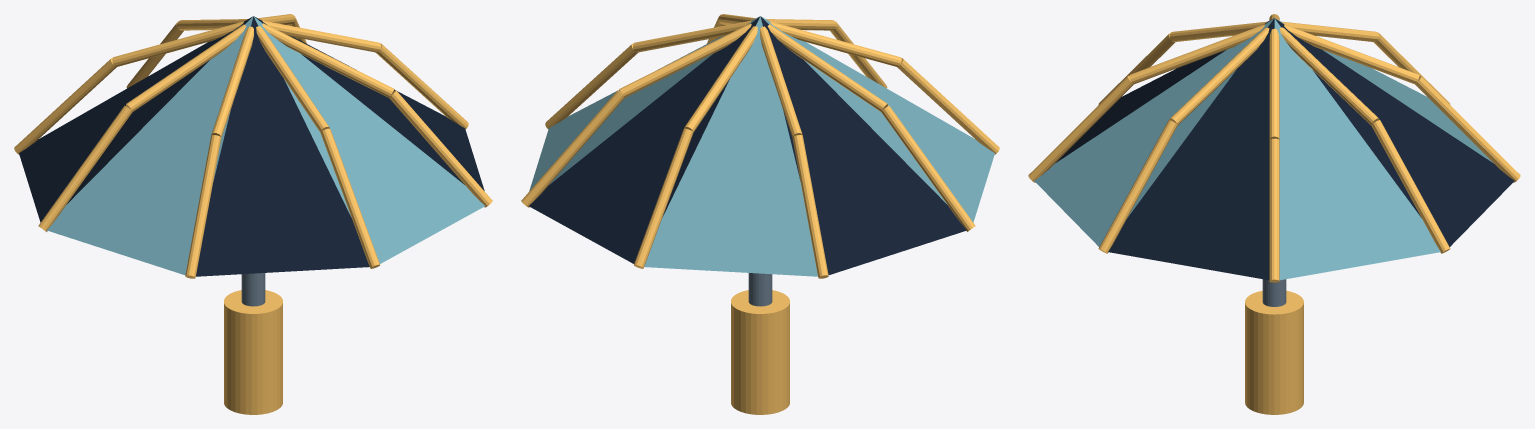
The model's file is foldumbrella.glb.
3 renders of one model, left to right at view 1: azimuth 30°, elevation 25°; view 2: azimuth 150°, elevation 25°; view 3: azimuth 270°, elevation 25°, orthographic.
Parts seen in each view (by area): view 1: panel2, panel3, panel1, panel4, handle, panel0, rib21, rib41, rib31, rib11, rib10, rib40 (+9 smaller); view 2: panel5, panel4, panel6, panel3, handle, panel7, rib61, rib41, rib51, rib71, rib70, rib40 (+9 smaller); view 3: panel0, panel7, panel1, panel6, handle, panel2, panel5, rib11, rib71, rib01, rib20, rib60 (+10 smaller).
Part boxes in pixels (left/top/right/bottom): panel2: left=196, top=16, right=369, bottom=276; panel3: left=47, top=16, right=253, bottom=274; panel1: left=254, top=17, right=484, bottom=263; panel4: left=19, top=16, right=252, bottom=222; handle: left=224, top=290, right=282, bottom=414; panel0: left=254, top=16, right=484, bottom=190; rib21: left=320, top=128, right=379, bottom=268; rib41: left=38, top=105, right=132, bottom=231; rib31: left=185, top=135, right=221, bottom=278; rib11: left=389, top=90, right=492, bottom=207; rib10: left=262, top=23, right=394, bottom=97; rib40: left=126, top=24, right=246, bottom=111; panel5: left=644, top=16, right=817, bottom=276; panel4: left=760, top=16, right=966, bottom=274; panel6: left=529, top=17, right=759, bottom=263; panel3: left=761, top=16, right=994, bottom=222; handle: left=731, top=290, right=789, bottom=414; panel7: left=529, top=16, right=759, bottom=190; rib61: left=634, top=128, right=693, bottom=268; rib41: left=881, top=105, right=975, bottom=231; rib51: left=792, top=135, right=828, bottom=278; rib71: left=521, top=90, right=624, bottom=207; rib70: left=619, top=23, right=751, bottom=97; rib40: left=767, top=24, right=887, bottom=111; panel0: left=1108, top=18, right=1274, bottom=280; panel7: left=1274, top=19, right=1440, bottom=280; panel1: left=1034, top=18, right=1273, bottom=246; panel6: left=1275, top=18, right=1514, bottom=246; handle: left=1245, top=290, right=1303, bottom=414; panel2: left=1055, top=18, right=1273, bottom=163; panel5: left=1275, top=18, right=1493, bottom=163; rib11: left=1098, top=120, right=1177, bottom=253; rib71: left=1371, top=120, right=1450, bottom=253; rib01: left=1269, top=138, right=1279, bottom=282; rib20: left=1129, top=24, right=1264, bottom=84; rib60: left=1284, top=24, right=1419, bottom=84.
Size of the model in its own units: 1.67 by 1.44 by 1.67.
